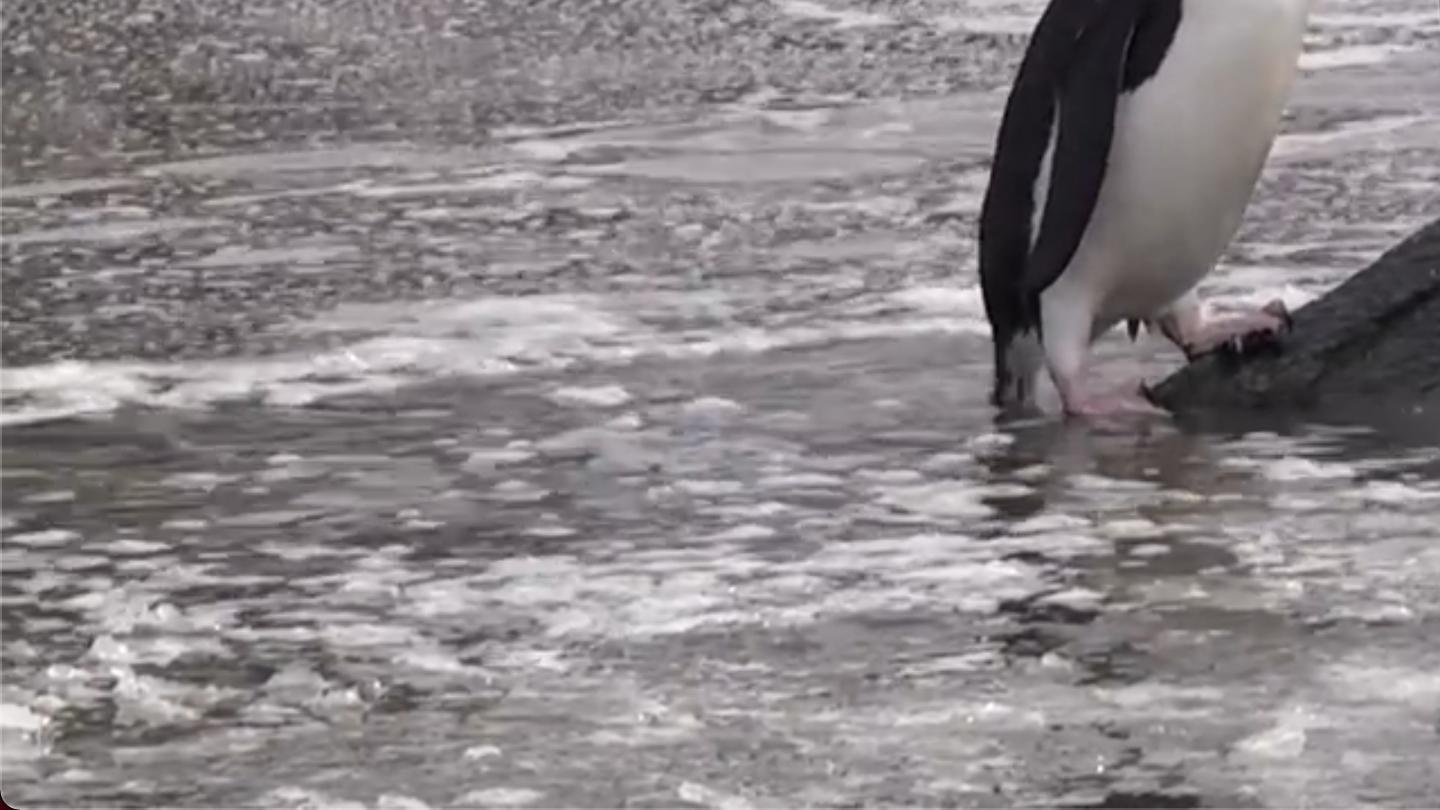Chinstrap Penguin: (957, 0, 1436, 410), (1390, 0, 1440, 300)
